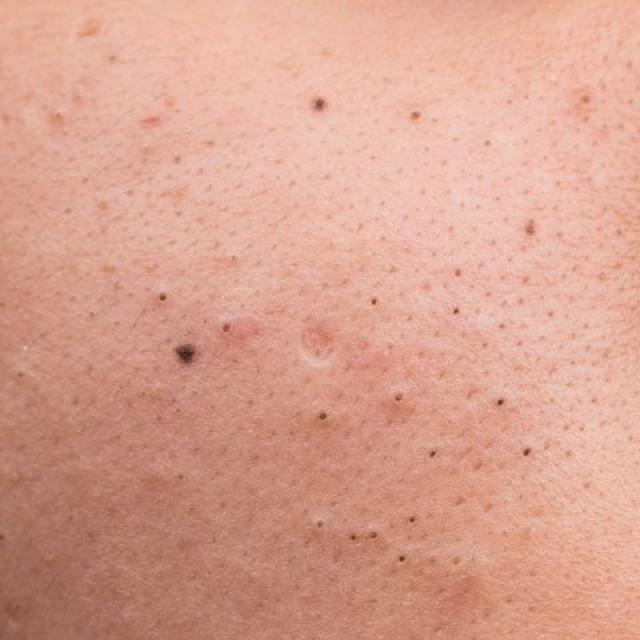dark spot: (164, 334, 203, 379), (306, 95, 333, 121), (513, 443, 537, 467), (490, 394, 513, 416), (314, 408, 334, 428)
